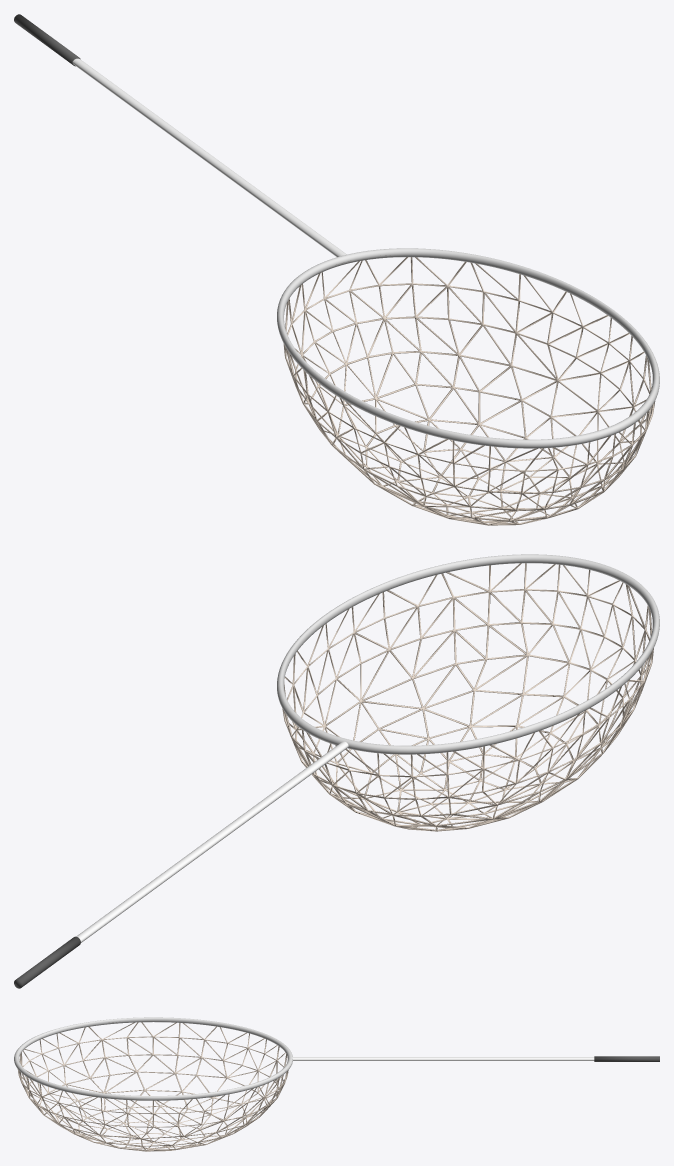
Rendered from net.fbx.
3 renders of one model, top to bottom at view 1: azimuth 30°, elevation 25°; view 2: azimuth 150°, elevation 25°; view 3: azimuth 270°, elevation 25°, orthographic. The views are drawn at different scales.
Parts seen in each view (by area): view 1: Circle, Vert; view 2: Circle, Vert; view 3: Circle, Vert.
Boxes of the visible parts, x1,y1,x2,y2 form: Circle: (14, 14, 659, 525); Vert: (72, 58, 346, 257); Circle: (14, 554, 659, 988); Vert: (76, 741, 348, 942); Circle: (14, 1017, 659, 1151); Vert: (292, 1057, 594, 1060).
Bounding box in the file's own units: 145 × 72.84 × 493.
